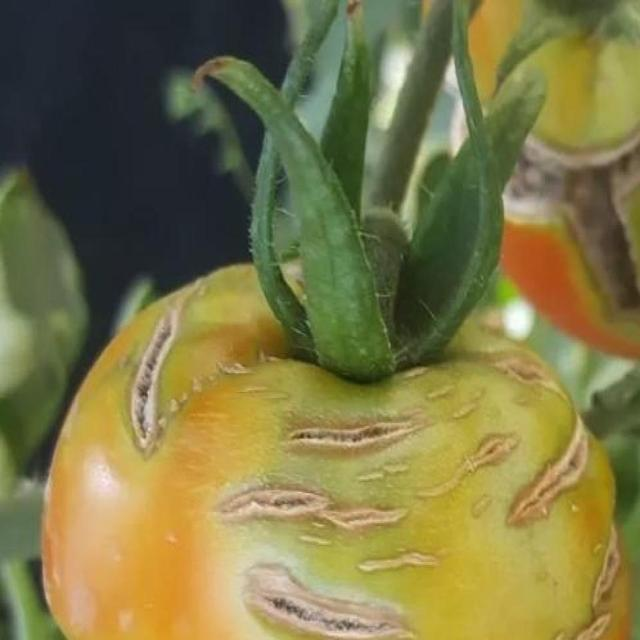Cracking Fruit: (45, 22, 402, 416)
